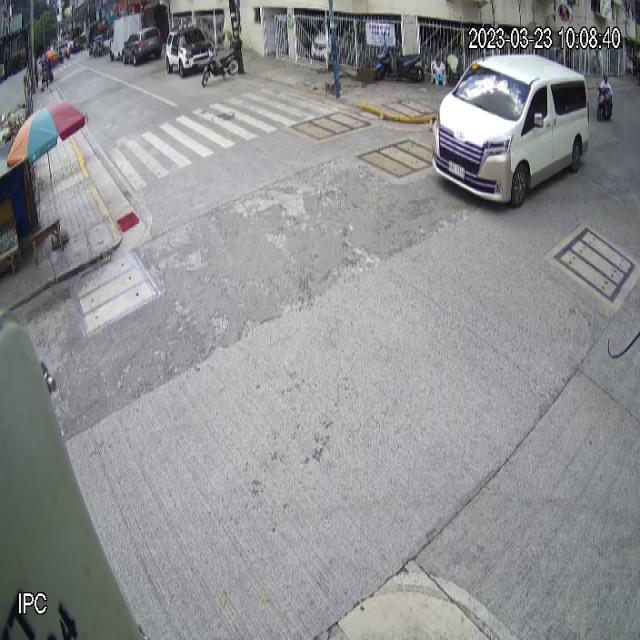Van: (431, 53, 590, 209)
